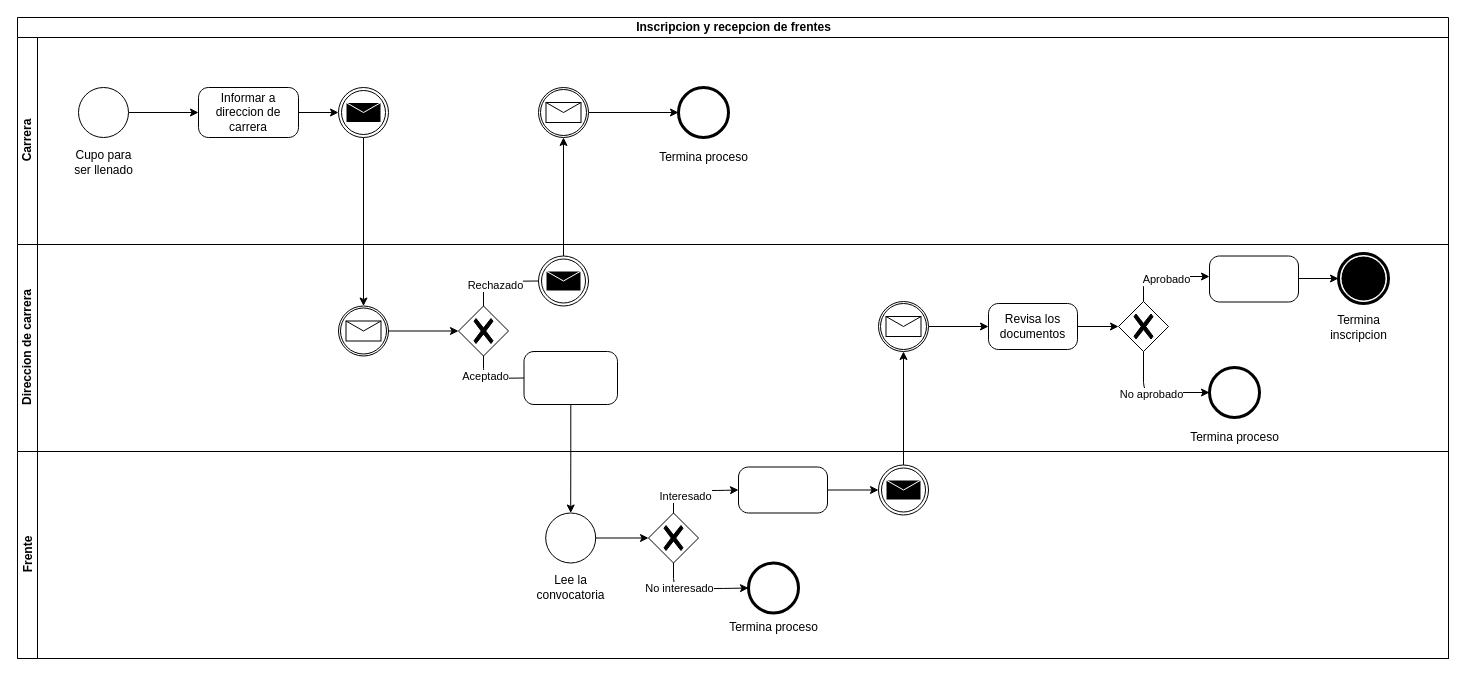
This 1466x676 diagram has some shape labels left out. Each missing label, with the centre of its shape:
"Envia documentos" belongs at [783,489].
"Registra la informacion del frente" belongs at [1253,278].
"Solicitar documentos del frente" belongs at [570,377].
